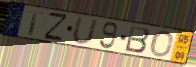9: (99, 21, 119, 49)
B: (124, 24, 151, 54)
O: (149, 29, 175, 58)
T: (27, 9, 44, 37)
U: (71, 16, 99, 46)
Z: (42, 11, 69, 42)
